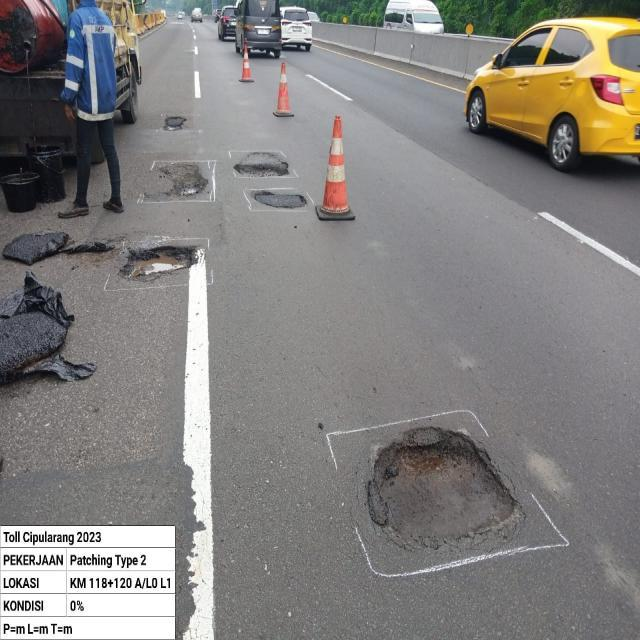Buraco: (361, 424, 530, 558), (115, 243, 201, 283), (155, 161, 211, 199), (231, 150, 291, 179), (249, 189, 310, 210), (161, 114, 189, 132)
